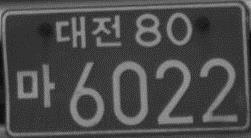0: (111, 58, 148, 126), (165, 11, 193, 46)
2: (198, 57, 239, 125), (154, 58, 194, 126)
6: (67, 60, 105, 128)
8: (133, 12, 162, 48)
대전_O: (54, 12, 122, 50)
마: (14, 61, 57, 108)
